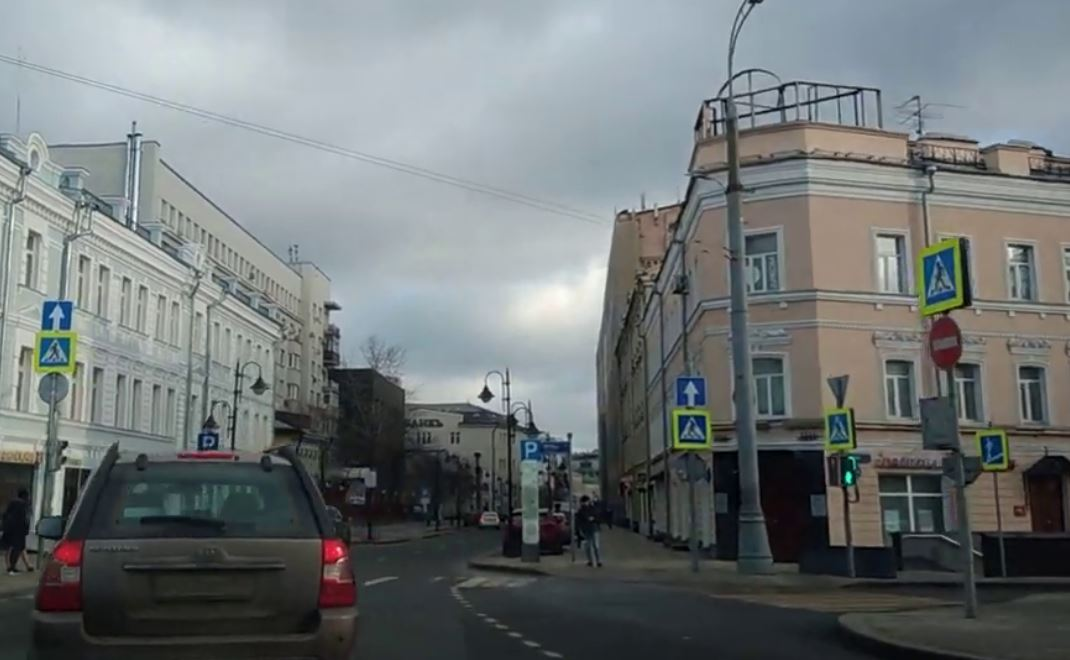Yaya Gecidi: (924, 254, 959, 302), (677, 413, 712, 443), (43, 335, 73, 368), (823, 415, 853, 443)
